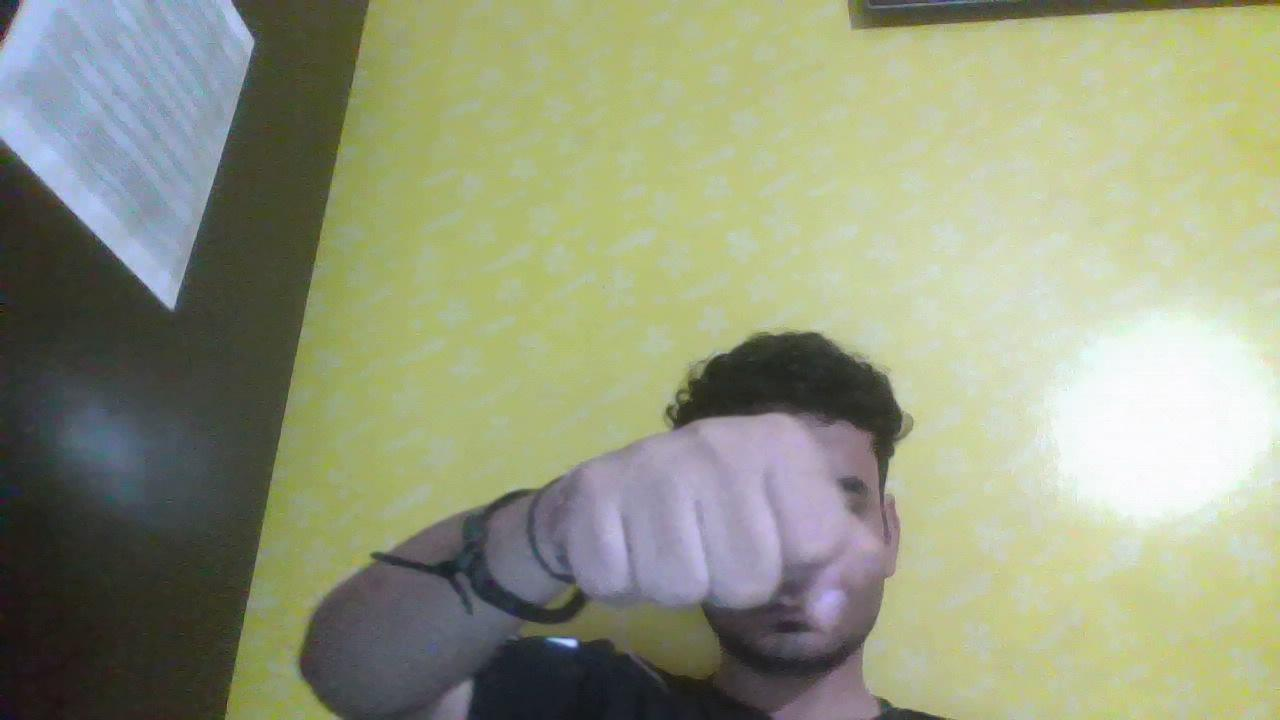Yes: (531, 426, 904, 666)
